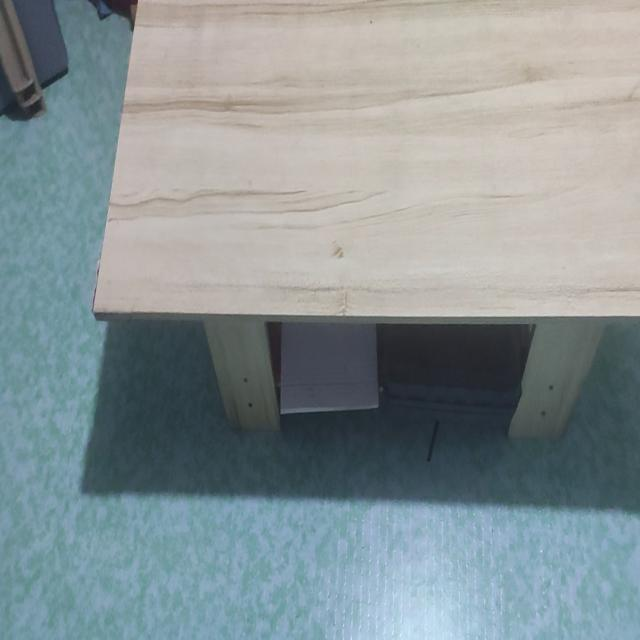table: (93, 0, 640, 465)
